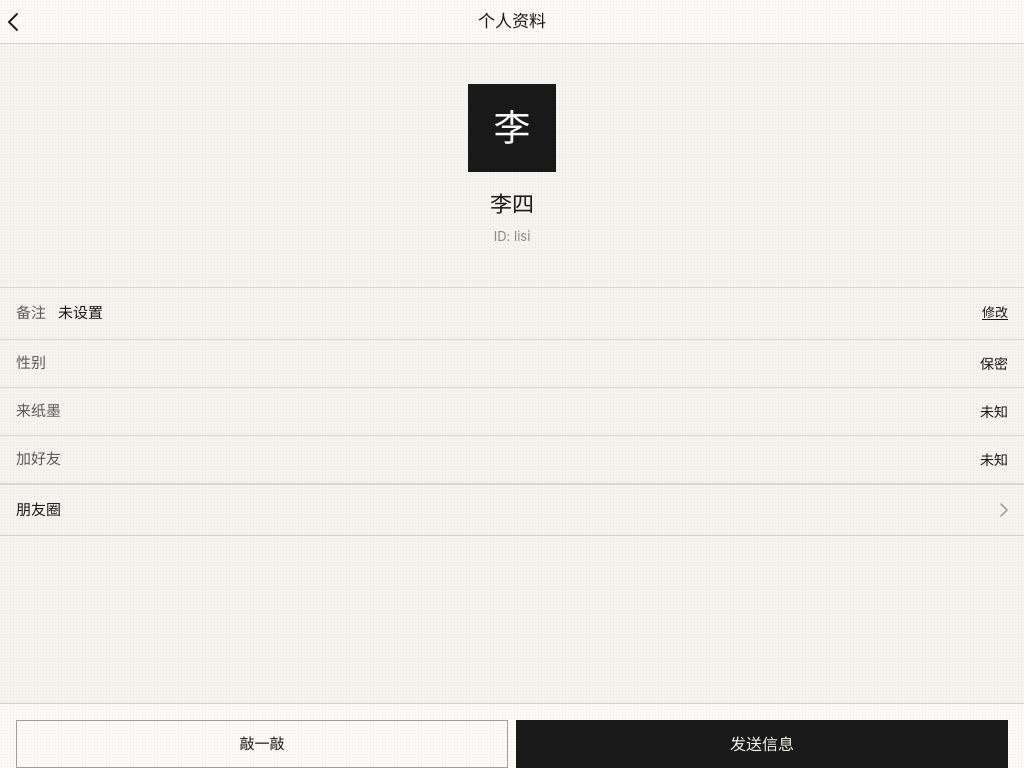
Test case: FriendProfile 好友资料页 › 点击敲一敲发送提醒并展示结果
Step 1. Click the button with test id "knock-btn" → (262, 744), box [16,720,508,767]
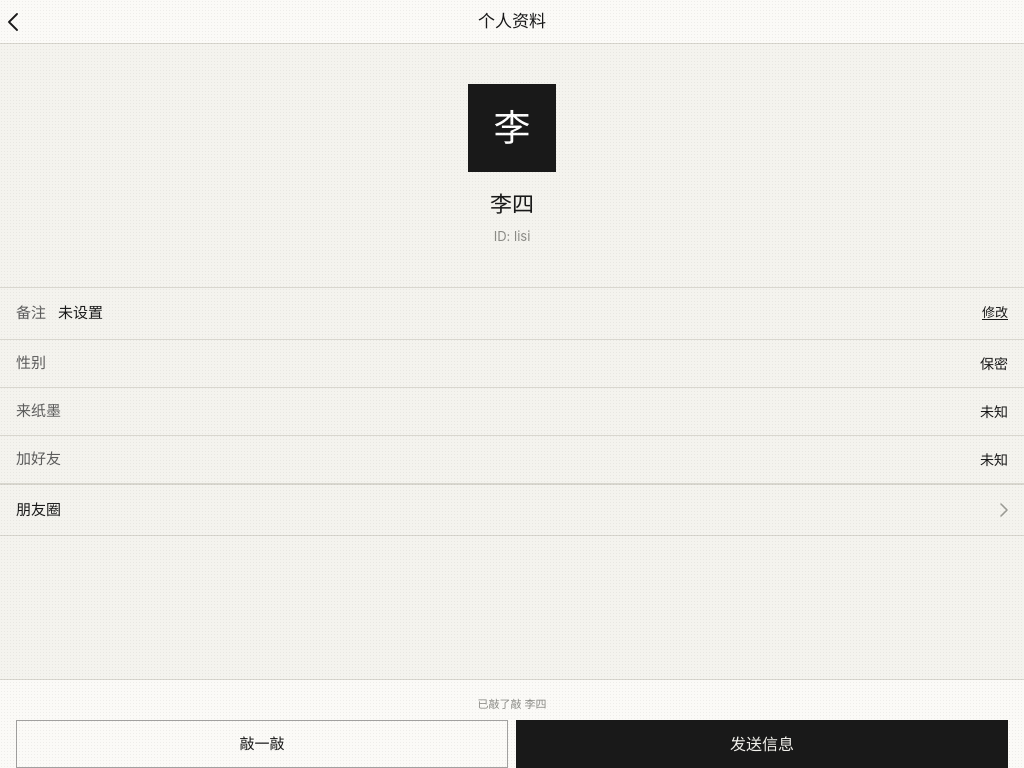
Now the text with test id "knock-hint" reads "已敲了敲 李四", box [478,696,547,710]
